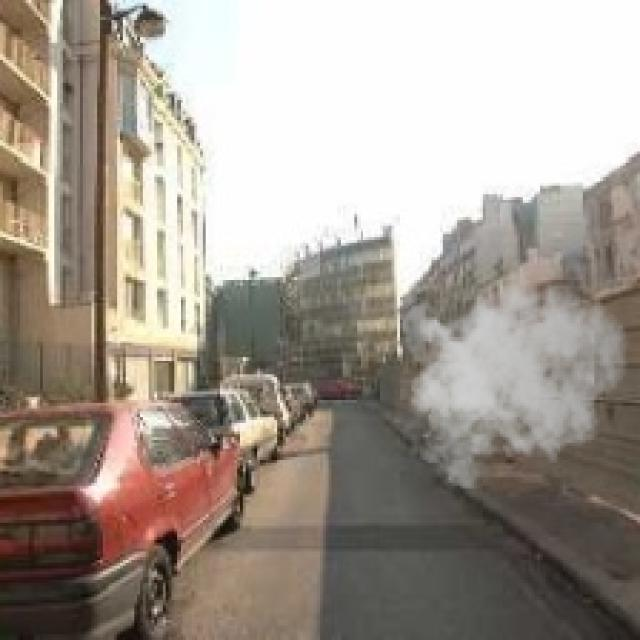Smoke: (394, 260, 629, 489)
